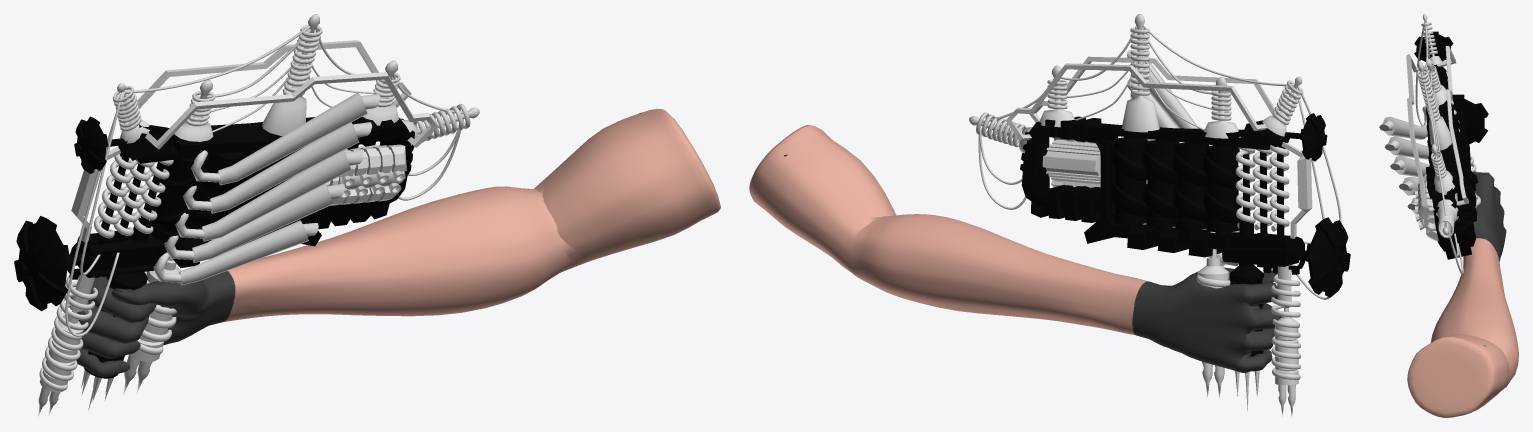
Rendered from npc_Tatgun10.fbx.
The picture shows the model from 3 angles, left to right: view 1: azimuth 30°, elevation 25°; view 2: azimuth 150°, elevation 25°; view 3: azimuth 270°, elevation 25°; orthographic projection. The views are drawn at different scales.
Visible parts, largest first — view 1: tatgun010; view 2: tatgun010; view 3: tatgun010.
Part boxes in pixels (x1,y1,x2,y2): tatgun010: [14, 14, 720, 416]; tatgun010: [749, 14, 1350, 417]; tatgun010: [1379, 14, 1518, 417].
Size of the model in its own units: 448 by 247 by 114.
2 materials, 1 textured.
